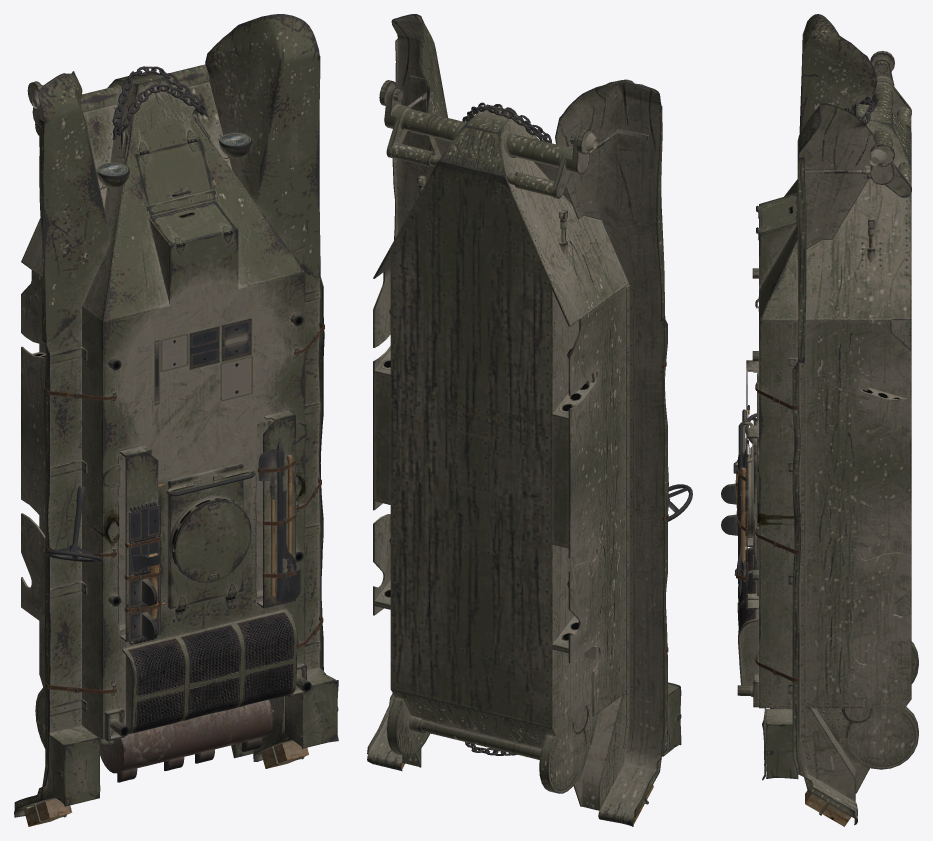
Rendered from Hull.glb.
The picture shows the model from 3 angles, left to right: view 1: azimuth 30°, elevation 25°; view 2: azimuth 150°, elevation 25°; view 3: azimuth 270°, elevation 25°; orthographic projection. The views are drawn at different scales.
Visible parts, largest first — view 1: set_0_group_0; view 2: set_0_group_0; view 3: set_0_group_0.
Boxes of the visible parts, x1,y1,x2,y2 form: set_0_group_0: (14,14,338,826); set_0_group_0: (367,14,692,826); set_0_group_0: (721,14,918,826).
Size of the model in its own units: 2.29 by 5.83 by 1.47.
1 material, 1 textured.
